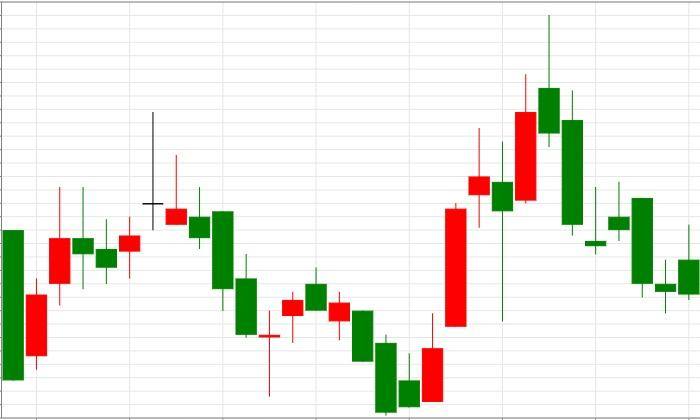shooting_star_fall: (422, 14, 560, 402)
